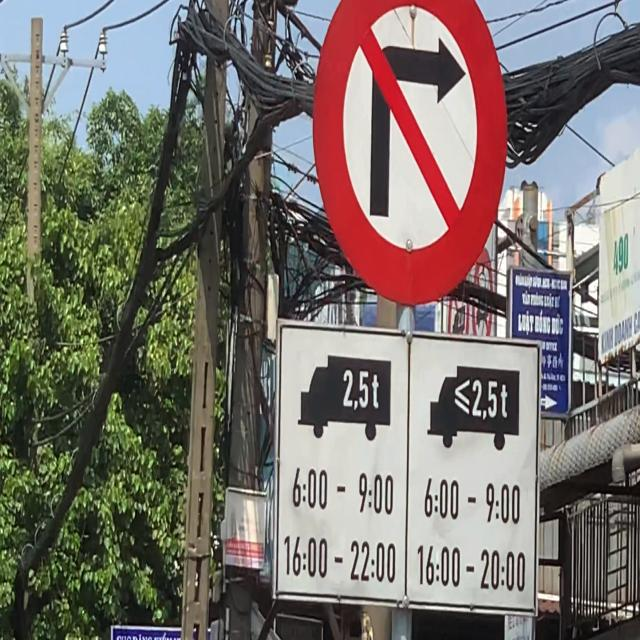Cam re phai: (312, 0, 509, 307)
